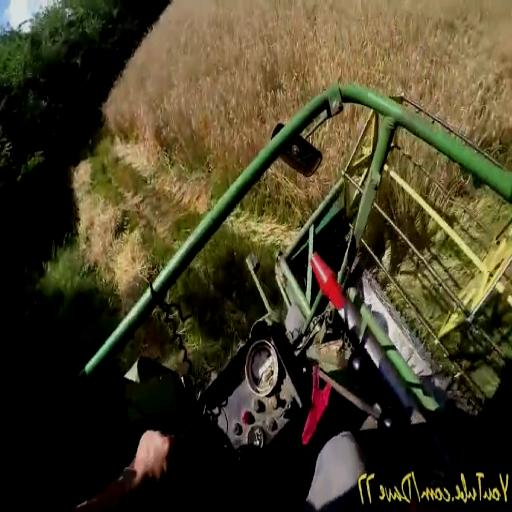bugday: (72, 0, 512, 308), (177, 107, 366, 348), (397, 134, 512, 251)
